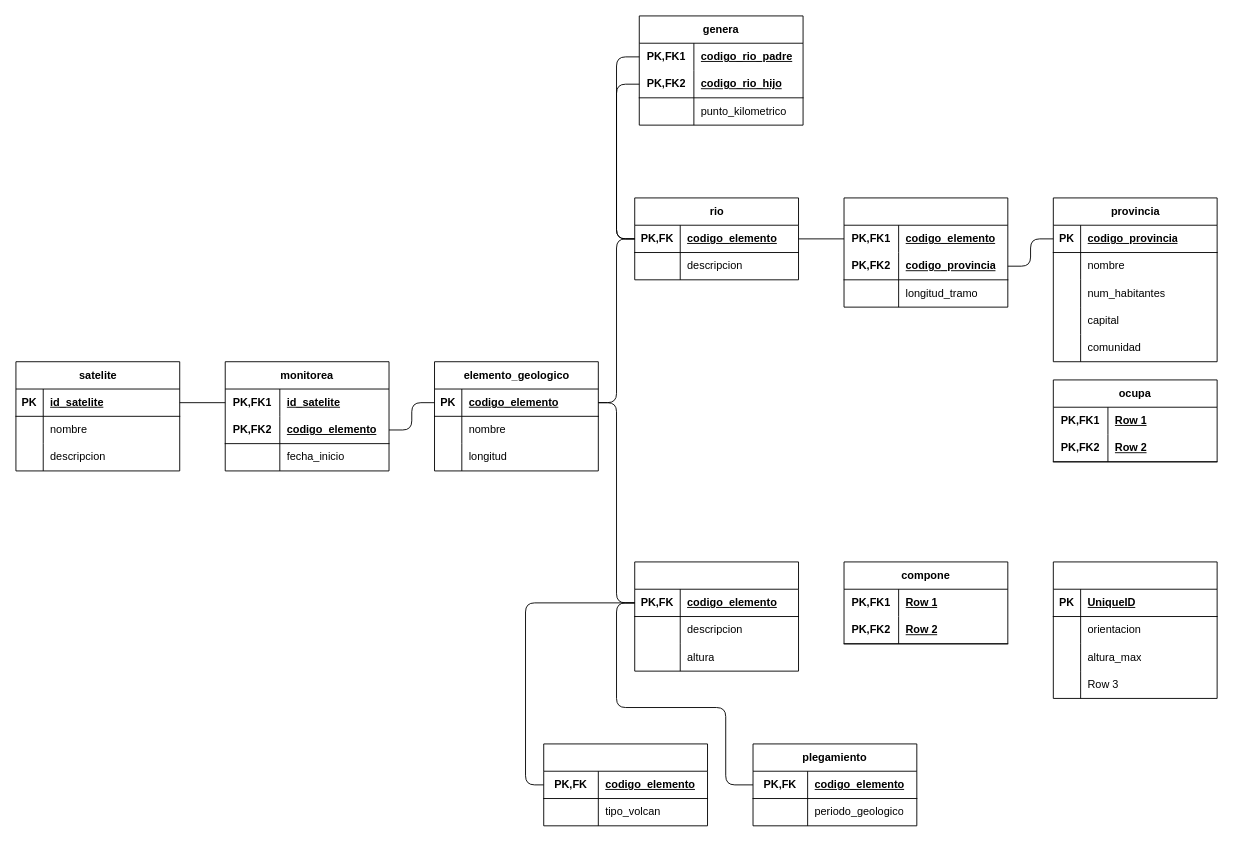
Image size: 1233x842. Some labels were removed from this diagram. The shapes that lost their labels are listed below. From the top down, each one's box as (x1, y1, x2, y2) in pixels, then its label:
(843, 197, 1008, 307): atraviesa
(634, 561, 799, 671): monte
(1052, 561, 1217, 698): sistema_mont
(543, 743, 708, 826): volcanico
